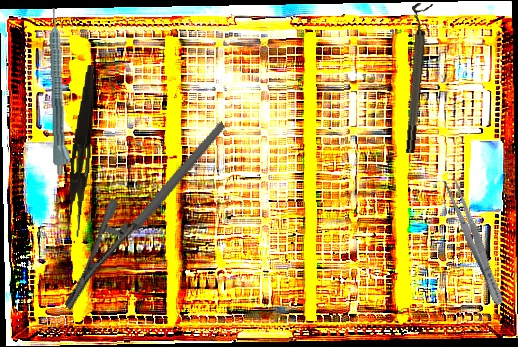Dressing Forceps: (441, 178, 509, 308), (66, 64, 97, 238)
Fixation Ring: (397, 2, 433, 154)
Handpiece: (48, 7, 73, 176)
Needle Holder: (24, 120, 267, 313)
